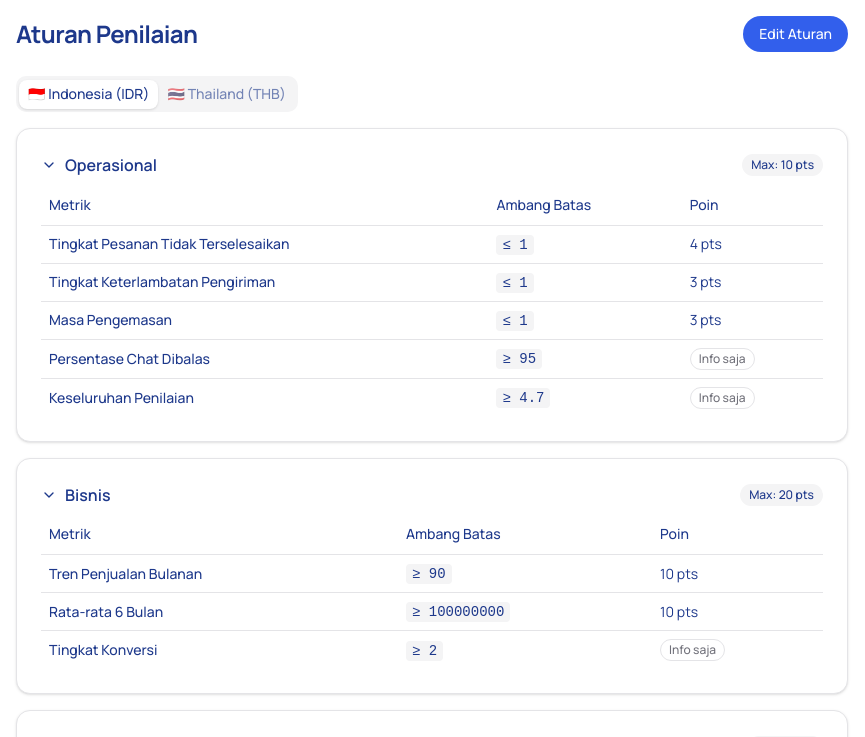
Edit mode › enters edit mode on Edit Rules click
The width and height of the screenshot is (865, 737).
Click the button "Edit Aturan".
click(796, 34)  # box [743,16,848,52]
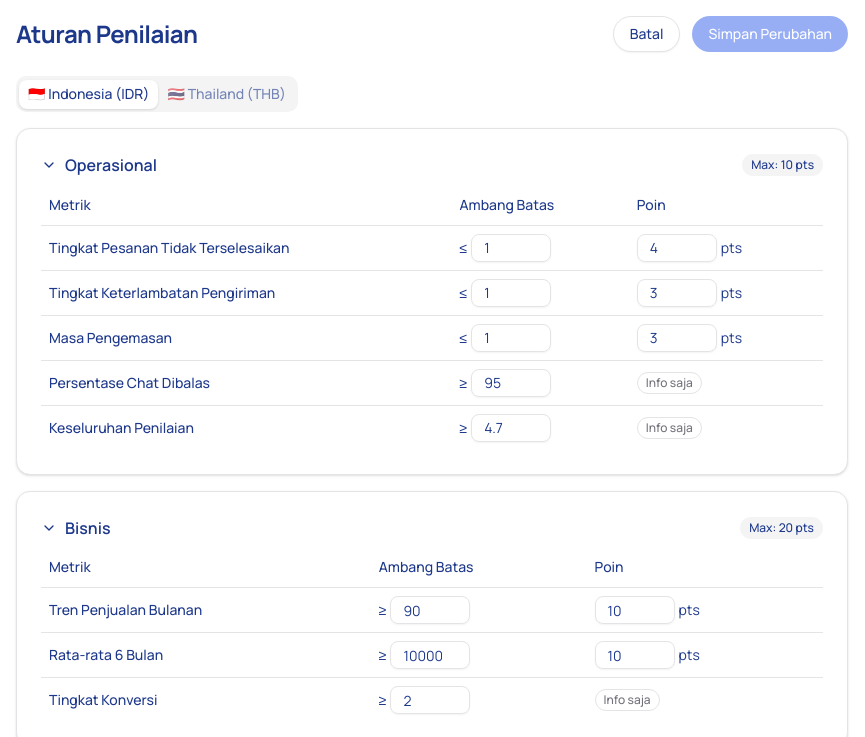
Expected: the button "Batal" is shown, [613,16,680,52]
Expected: the button "Simpan Perubahan" is shown, [692,16,848,52]
Expected: the button "Edit Aturan" is gone
